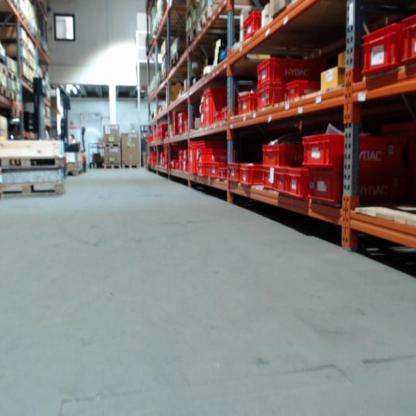pallet: (199, 3, 264, 35), (0, 155, 66, 171), (0, 182, 67, 197), (186, 23, 198, 46), (170, 51, 182, 69), (7, 68, 20, 81), (7, 91, 21, 103), (103, 140, 121, 149), (103, 163, 122, 170), (122, 163, 139, 170), (0, 65, 7, 74)
pallet_truck: (79, 122, 90, 173)
small_load_carrier: (298, 132, 397, 169), (361, 23, 401, 73), (254, 54, 312, 85), (304, 170, 348, 207), (188, 143, 219, 177), (203, 87, 229, 124), (259, 141, 297, 166), (256, 85, 291, 111), (288, 76, 318, 106), (399, 12, 414, 67), (234, 90, 257, 120), (287, 168, 308, 200), (197, 150, 238, 165), (242, 11, 262, 39), (240, 164, 265, 185), (274, 168, 289, 193), (172, 110, 184, 136), (209, 161, 224, 181), (259, 168, 272, 188), (227, 162, 240, 182), (222, 104, 234, 122), (217, 169, 232, 181), (177, 125, 191, 137), (196, 164, 209, 176), (179, 112, 192, 123), (179, 161, 189, 175), (179, 150, 189, 161), (214, 111, 223, 123)
